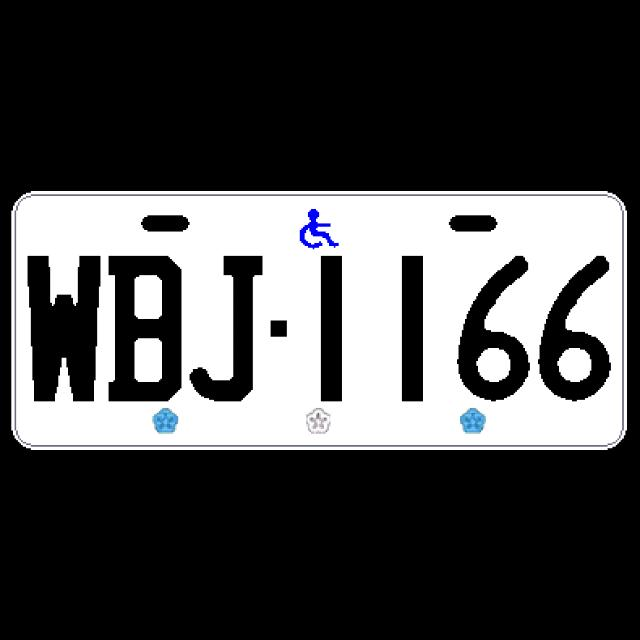plate: (8, 188, 630, 452)
